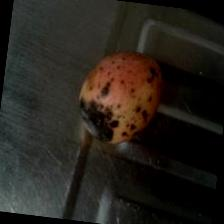Mango Overripe: (66, 42, 168, 148)
